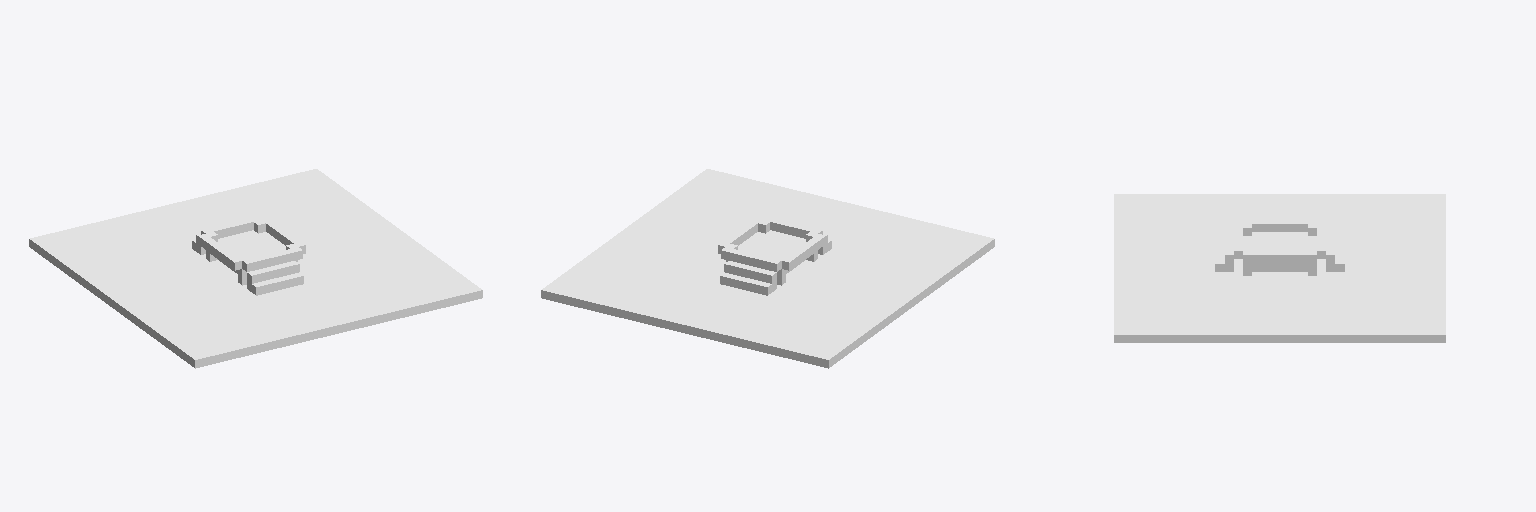
Rendered from ballroom.obj.
3 renders of one model, left to right at view 1: azimuth 30°, elevation 25°; view 2: azimuth 150°, elevation 25°; view 3: azimuth 270°, elevation 25°, orthographic.
Parts seen in each view (by area): view 1: object 1; view 2: object 1; view 3: object 1.
Boxes of the visible parts, x1,y1,x2,y2 form: object 1: [29, 169, 482, 368]; object 1: [541, 169, 994, 368]; object 1: [1114, 194, 1445, 342].
Bounding box in the file's own units: 3.6 × 0.4 × 3.6.